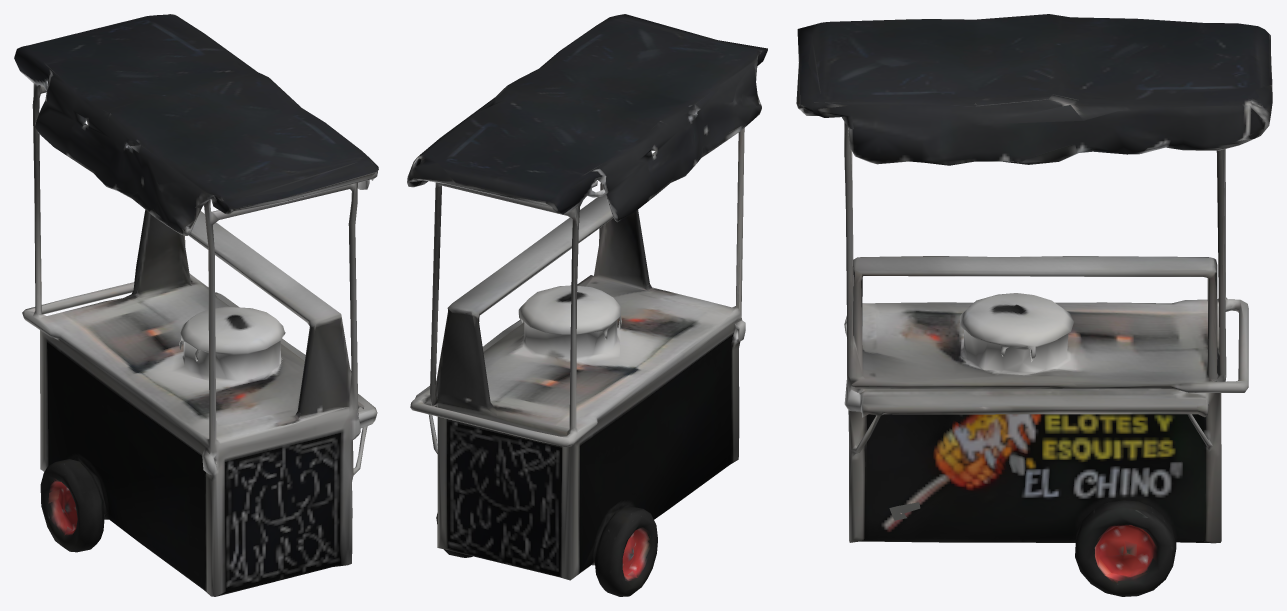
File: PuestoElotes.obj
3 renders of one model, left to right at view 1: azimuth 30°, elevation 25°; view 2: azimuth 150°, elevation 25°; view 3: azimuth 270°, elevation 25°, orthographic. The views are drawn at different scales.
Parts seen in each view (by area): view 1: tripo_node_7afe3838-8395-4fbf-9d0c-c1942845ede0; view 2: tripo_node_7afe3838-8395-4fbf-9d0c-c1942845ede0; view 3: tripo_node_7afe3838-8395-4fbf-9d0c-c1942845ede0.
Boxes of the visible parts, bbox=[...] form: tripo_node_7afe3838-8395-4fbf-9d0c-c1942845ede0: bbox=[14, 14, 378, 596]; tripo_node_7afe3838-8395-4fbf-9d0c-c1942845ede0: bbox=[407, 14, 767, 596]; tripo_node_7afe3838-8395-4fbf-9d0c-c1942845ede0: bbox=[796, 14, 1272, 596].
Bounding box in the file's own units: 1.37 × 3 × 2.61.
